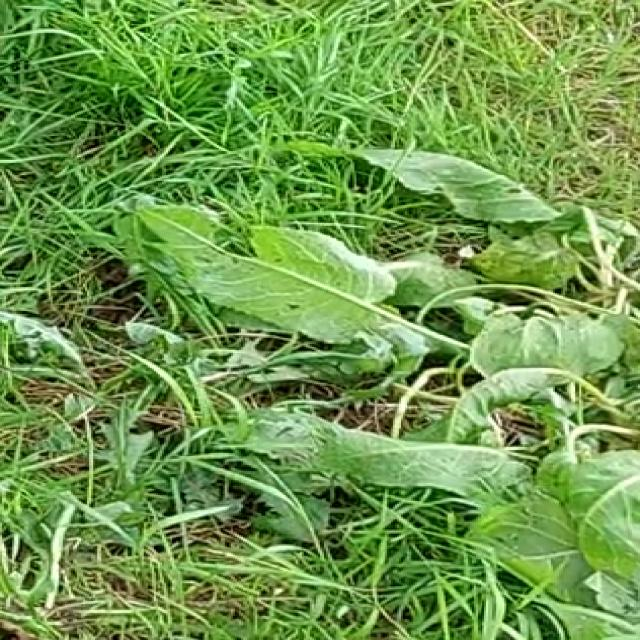organic waste: (137, 128, 640, 608)
